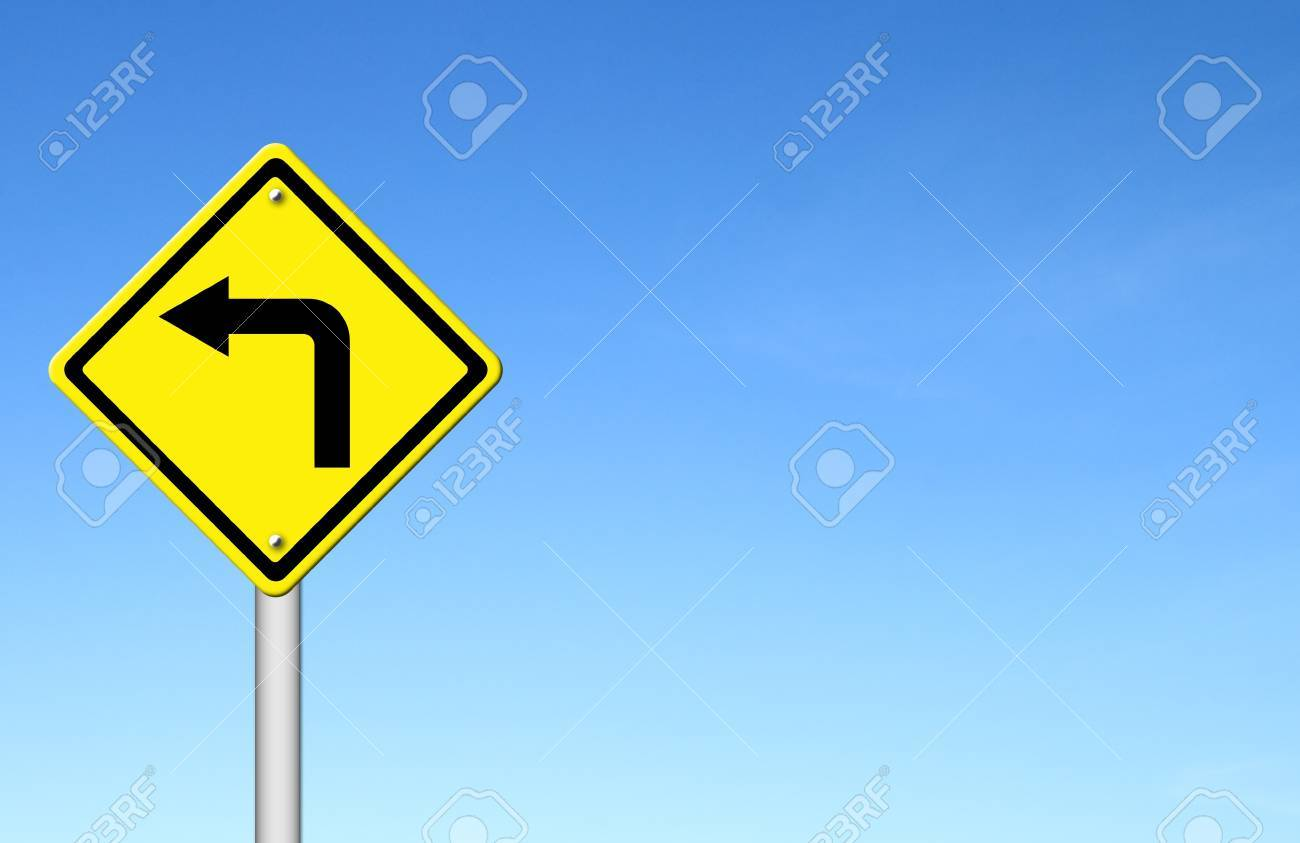left: (47, 140, 507, 600)
